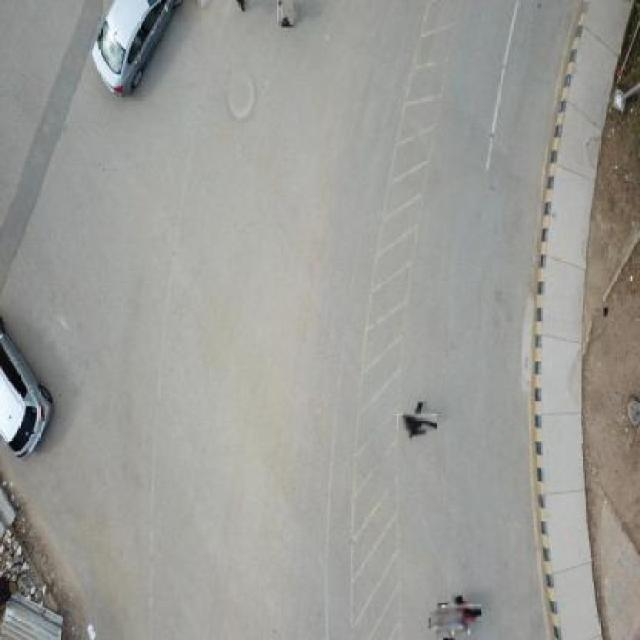Person: (446, 600, 477, 631), (403, 408, 432, 437), (432, 607, 460, 635), (277, 0, 294, 28)
